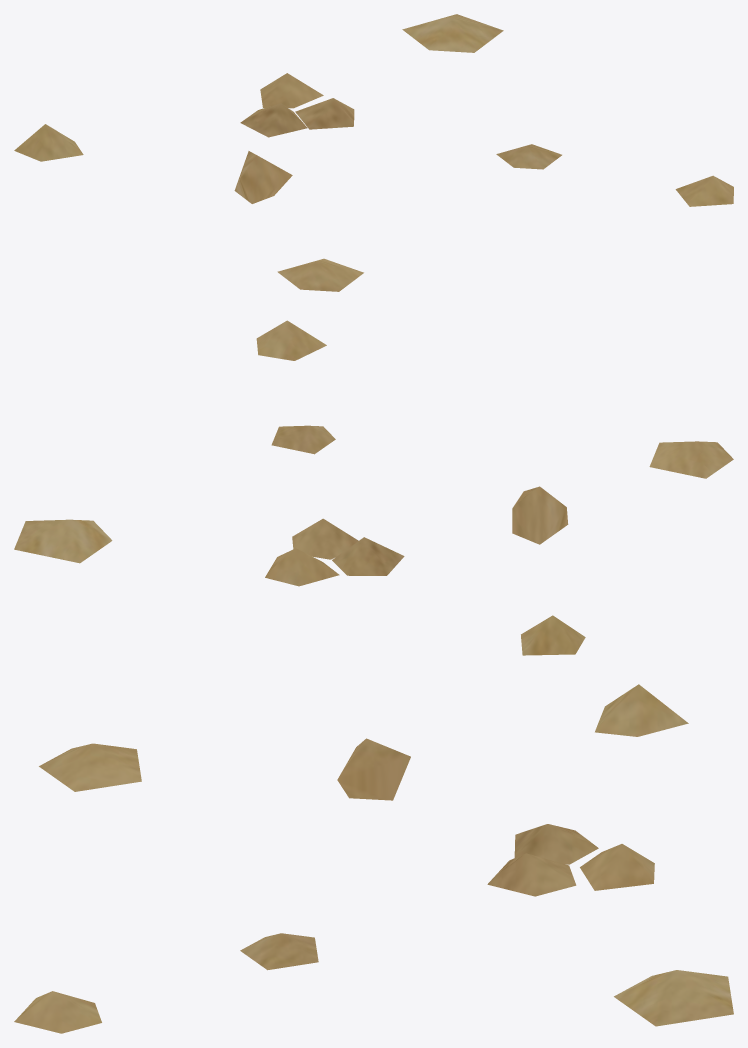
Rendered from rock_dfield1_hdtex.glb.
The picture shows the model from 3 angles, top to bottom: view 1: azimuth 30°, elevation 25°; view 2: azimuth 150°, elevation 25°; view 3: azimuth 270°, elevation 25°; orthographic projection. The views are drawn at different scales.
Parts seen in each view (by area): view 1: Rock_GField1; view 2: Rock_GField1; view 3: Rock_GField1.
Part boxes in pixels (x1,y1,x2,y2): Rock_GField1: (14,14,733,291); Rock_GField1: (14,320,733,655); Rock_GField1: (14,684,733,1033).
Size of the model in its own units: 22.29 by 1.74 by 20.31.
Materials: 1 (1 with a texture image).
